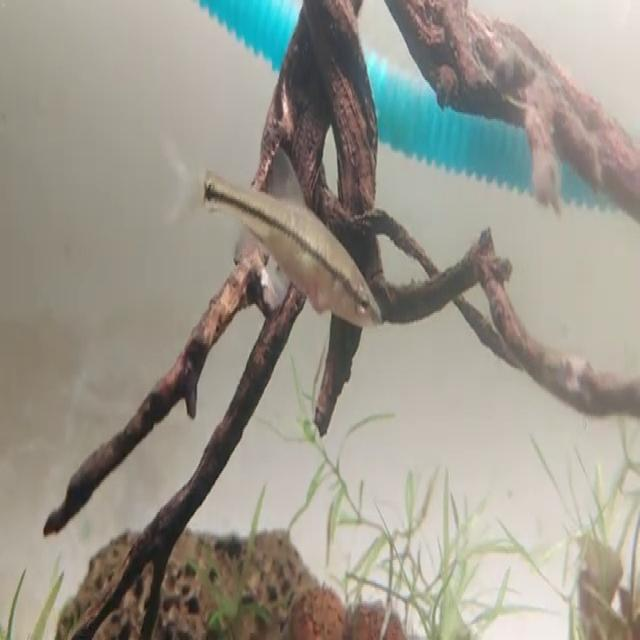Cakil Baligi: (201, 167, 383, 331)
